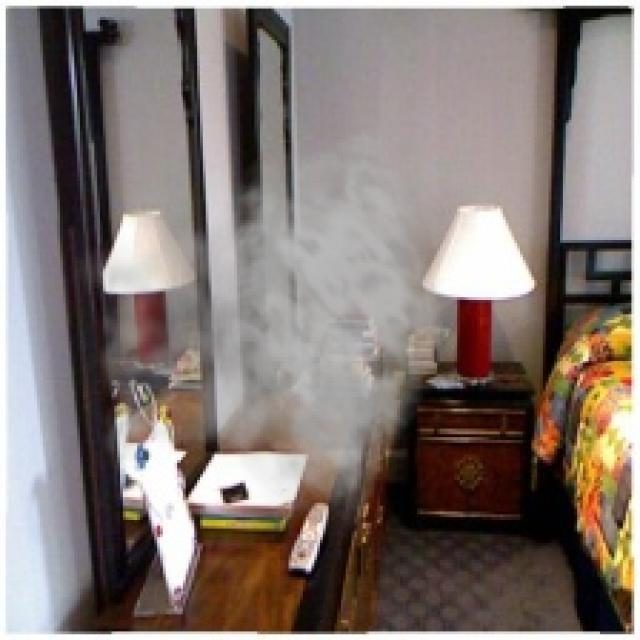Smoke: (66, 128, 446, 538)
